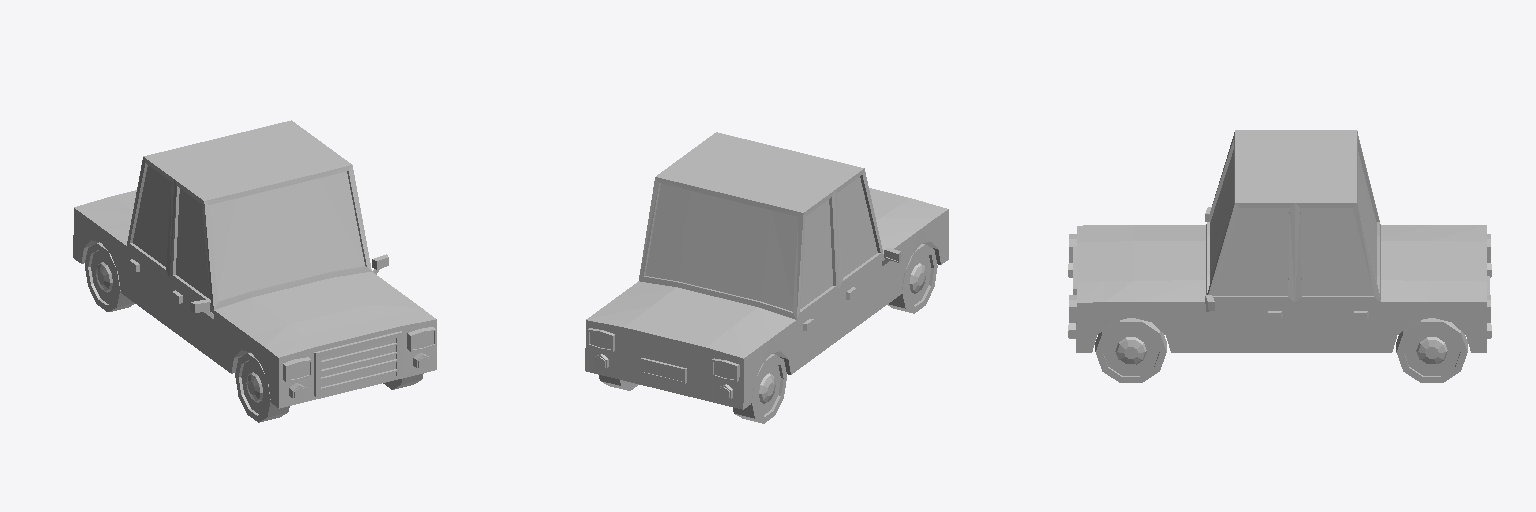
File: car5.obj
The picture shows the model from 3 angles: view 1: azimuth 30°, elevation 25°; view 2: azimuth 150°, elevation 25°; view 3: azimuth 270°, elevation 25°; orthographic projection.
Parts seen in each view (by area): view 1: Cube; view 2: Cube; view 3: Cube.
Boxes of the visible parts, x1=… form: Cube: x1=73, y1=120, x2=436, y2=422; Cube: x1=585, y1=132, x2=948, y2=423; Cube: x1=1068, y1=130, x2=1491, y2=382.
Bounding box in the file's own units: 3.39 × 2.95 × 6.35.